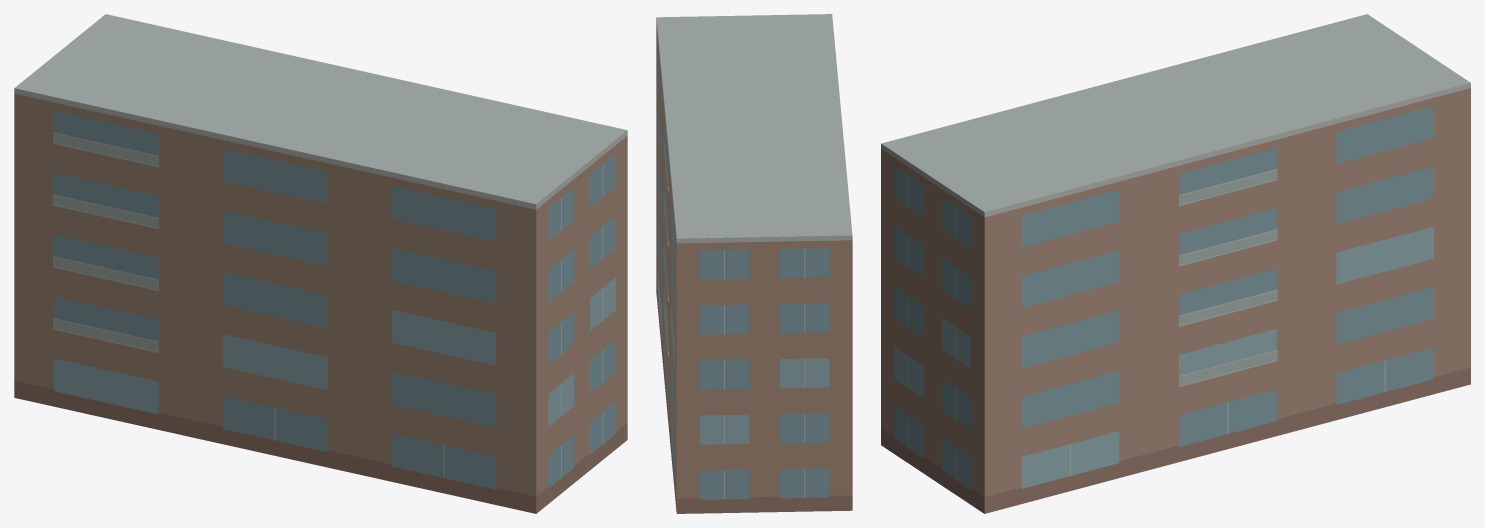
File: survey-upis-33009461.glb
3 renders of one model, left to right at view 1: azimuth 30°, elevation 25°; view 2: azimuth 150°, elevation 25°; view 3: azimuth 270°, elevation 25°, orthographic. The views are drawn at different scales.
Parts seen in each view (by area): view 1: survey-upis-33009461.tmp; view 2: survey-upis-33009461.tmp; view 3: survey-upis-33009461.tmp.
Part boxes in pixels (box(x1,y1,x2,y2)): survey-upis-33009461.tmp: box(14, 14, 627, 513); survey-upis-33009461.tmp: box(656, 14, 852, 513); survey-upis-33009461.tmp: box(881, 14, 1470, 513).
Bounding box in the file's own units: 19.74 × 14 × 24.81.
